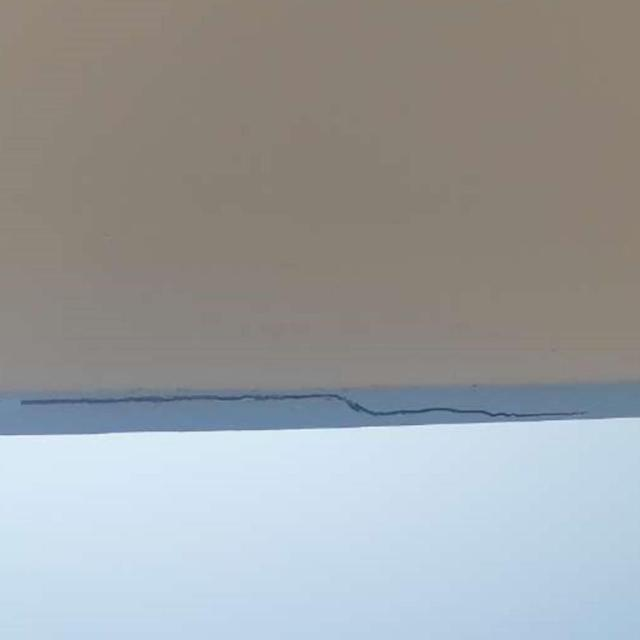crack: (19, 394, 590, 419)
